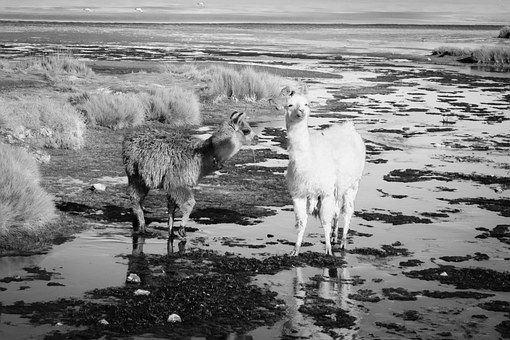alpaca: (121, 110, 260, 242), (283, 86, 366, 257)
